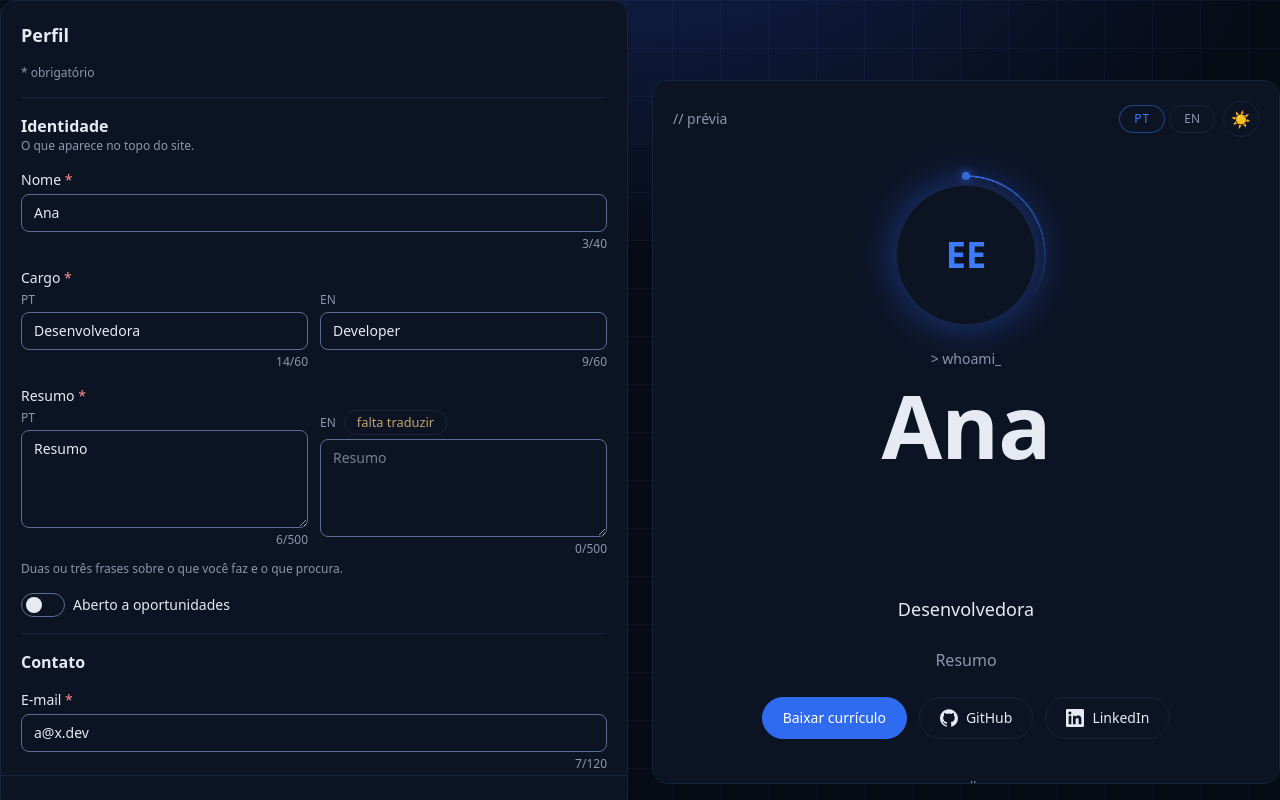
Test case: ProfileEditor › digitar atualiza a prévia e grava sozinho depois de 800 ms
Replace the text in the field labelled "Nome" with "Beatriz Lima" at (314, 213), box [21,194,607,232]
Wait 800 ms
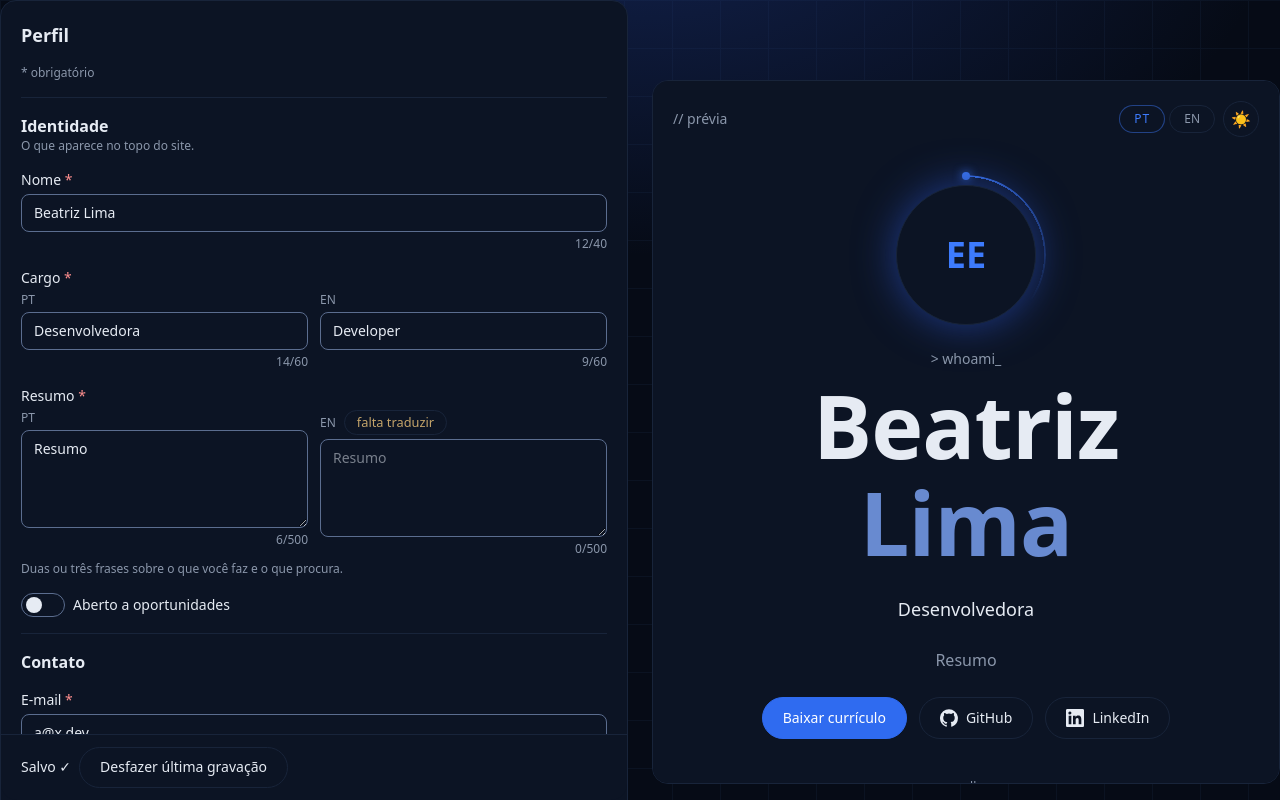
Result: the text "Beatriz" is shown at [813,377,1119,474]
Result: the text "Salvo ✓" is shown at [21,757,71,777]
